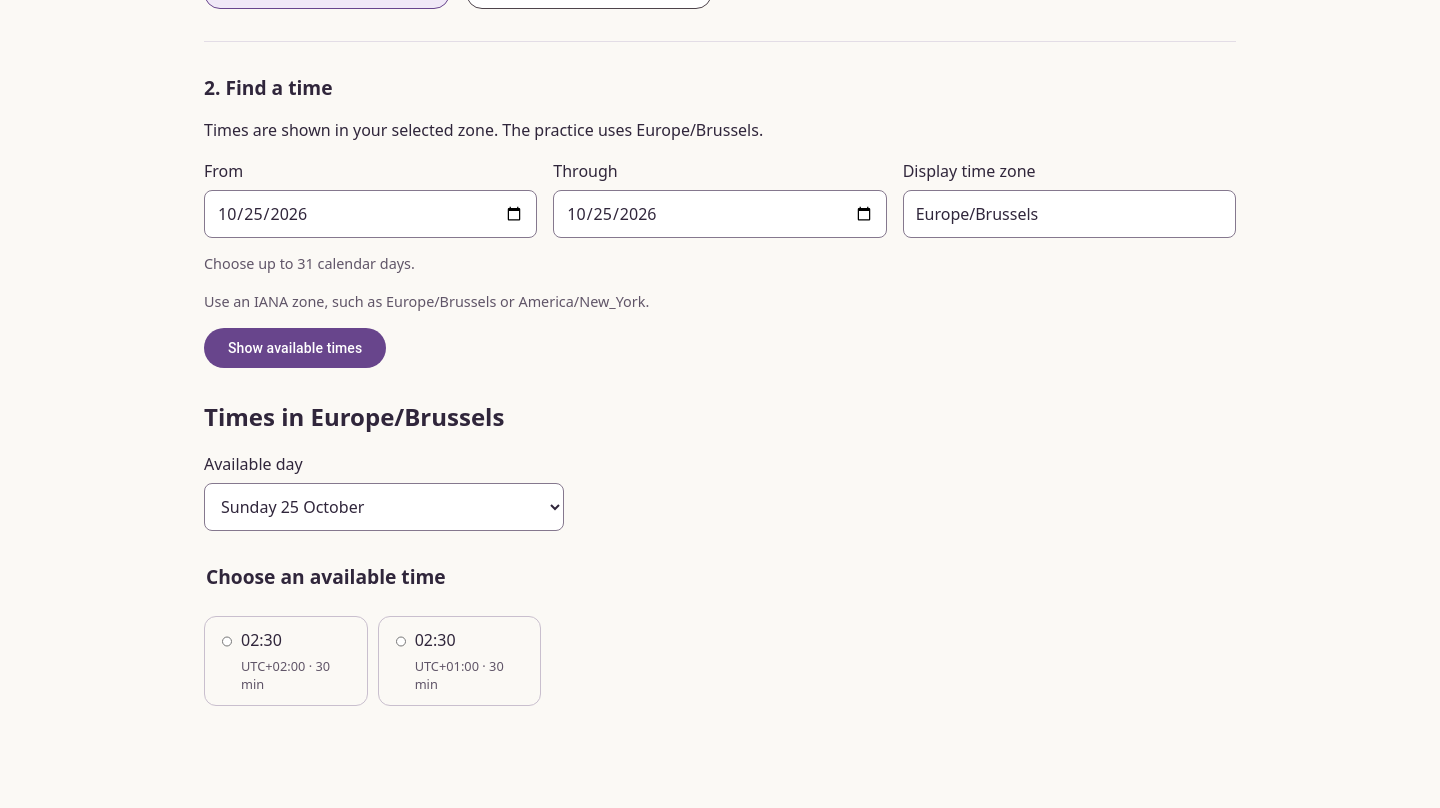
Test: Real catalog-backed service and time selection › keeps repeated civil times distinct by instant and displays each explicit UTC offset
(page scrolled)
Step 1. Click the radio button named "time" → point(401, 642), box [396, 635, 406, 648]
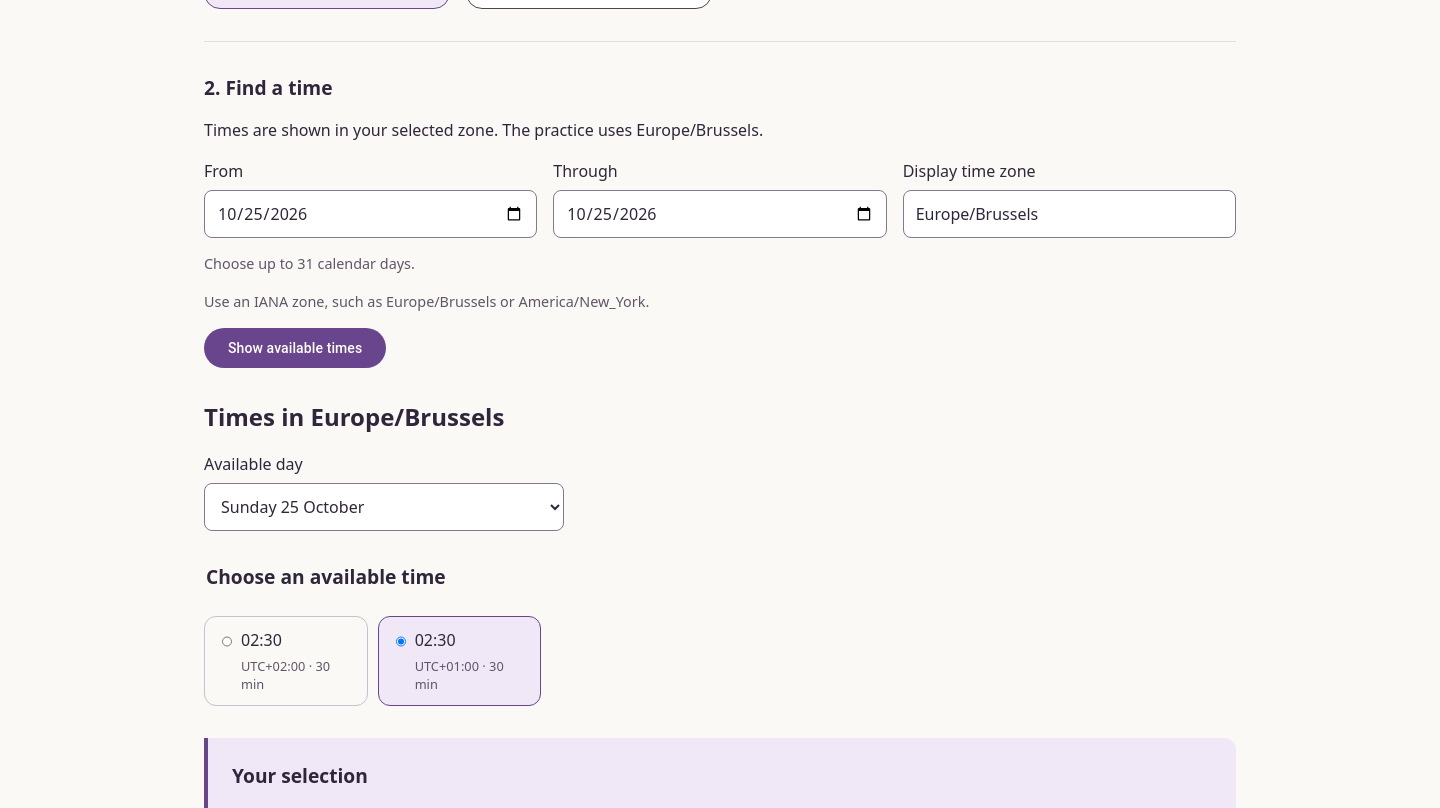
Expected: the text "Show available times" is shown, [228, 340, 362, 356]
Expected: the message with class "selection" shows "Your selection", [232, 762, 368, 789]
